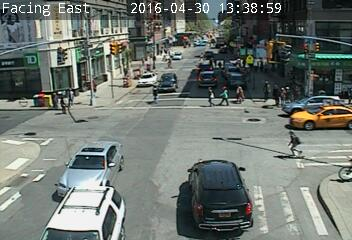neg: (100, 90, 128, 127), (104, 194, 124, 221), (297, 42, 317, 68), (257, 198, 275, 222), (206, 165, 224, 188), (239, 37, 255, 59), (327, 39, 343, 59), (174, 39, 189, 59), (110, 52, 124, 71), (209, 39, 223, 57), (134, 52, 147, 69), (92, 165, 104, 181), (277, 41, 286, 54)
pos: (280, 127, 304, 159), (255, 78, 272, 101), (147, 83, 163, 105), (214, 84, 230, 105), (203, 85, 219, 105), (230, 83, 245, 104), (57, 97, 71, 115), (45, 91, 59, 109), (65, 87, 78, 105), (164, 56, 174, 70)
